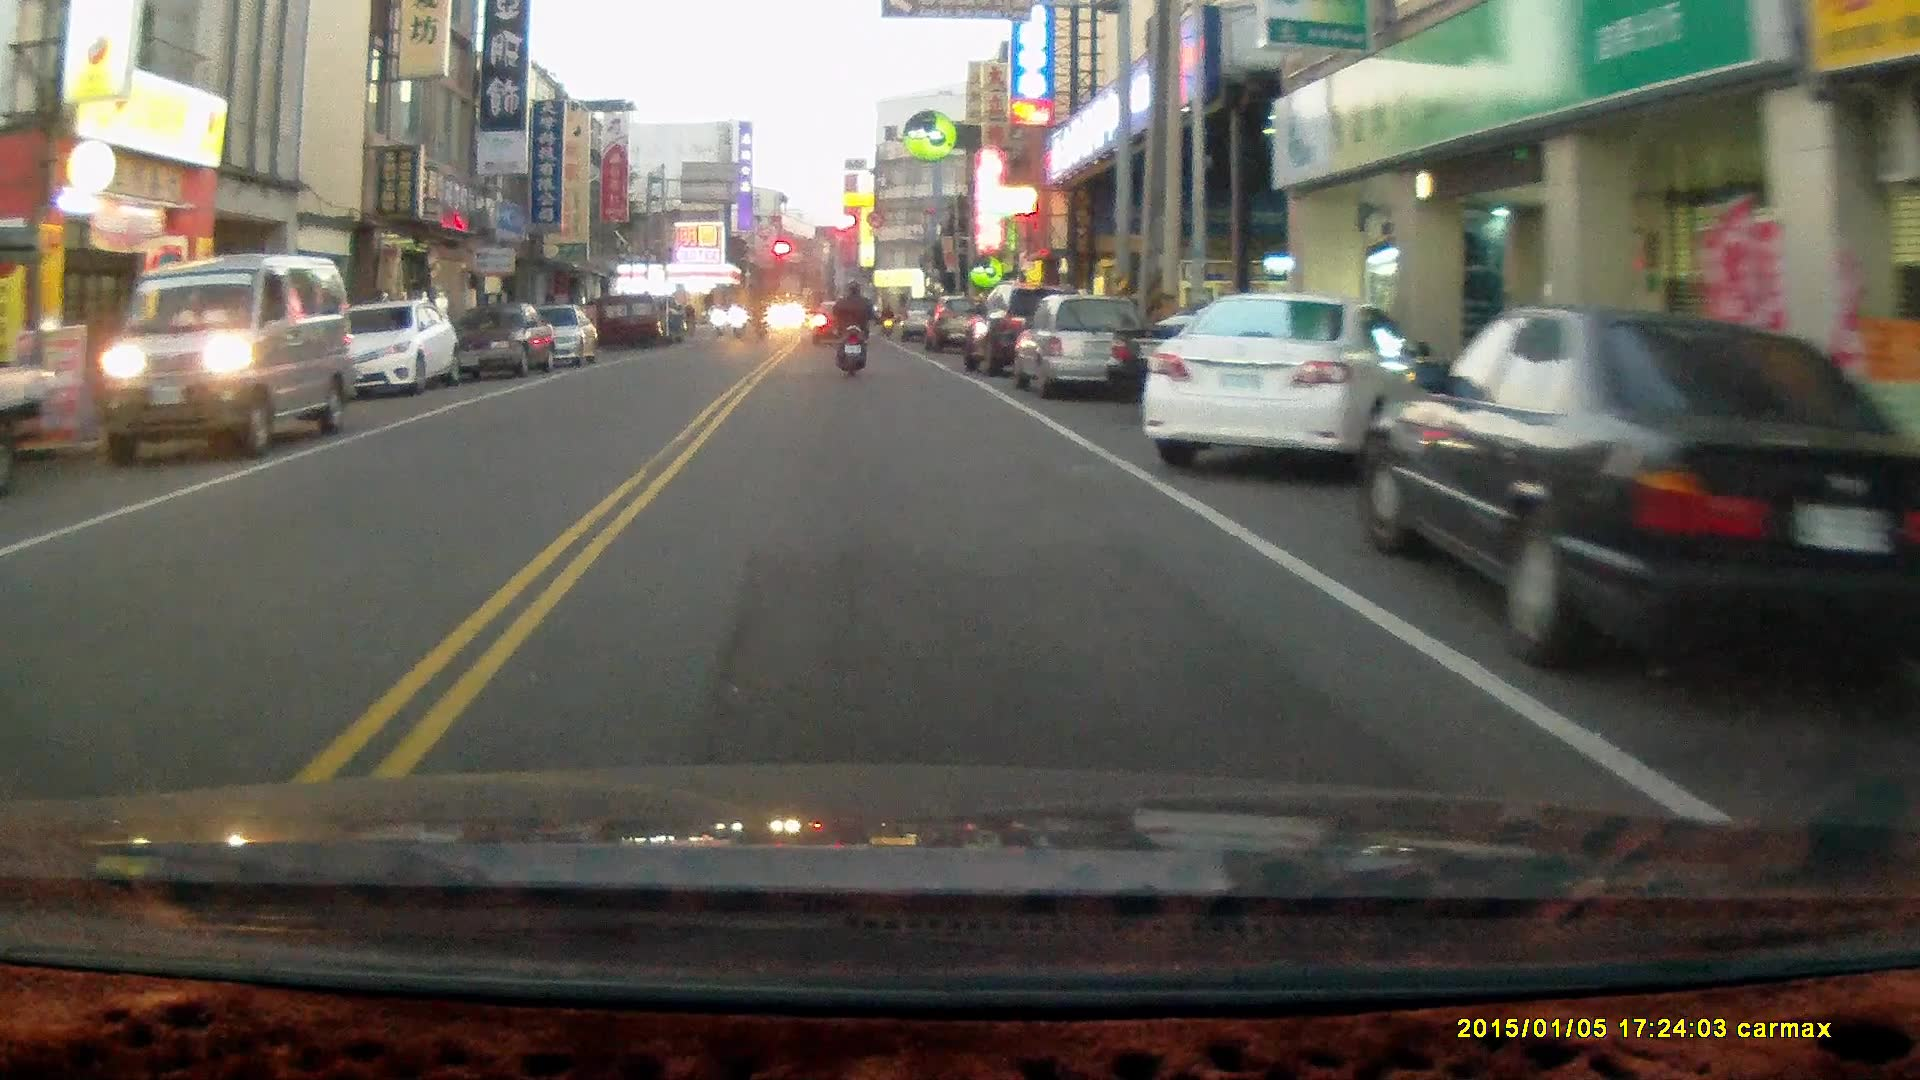rider: (830, 277, 875, 379)
vehicle: (1359, 306, 1920, 678), (1140, 290, 1424, 480), (103, 251, 356, 459), (0, 245, 63, 506), (1011, 293, 1151, 394), (327, 296, 461, 396), (445, 299, 559, 386)
